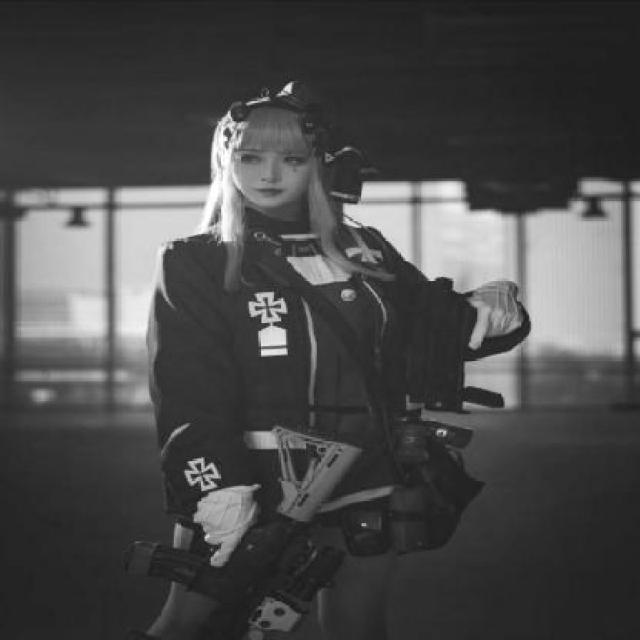face_nomask: (229, 132, 305, 223)
hand_glove: (186, 484, 266, 570), (460, 274, 531, 358)
head_nohelmet: (205, 86, 329, 166)
person: (108, 52, 486, 640)
